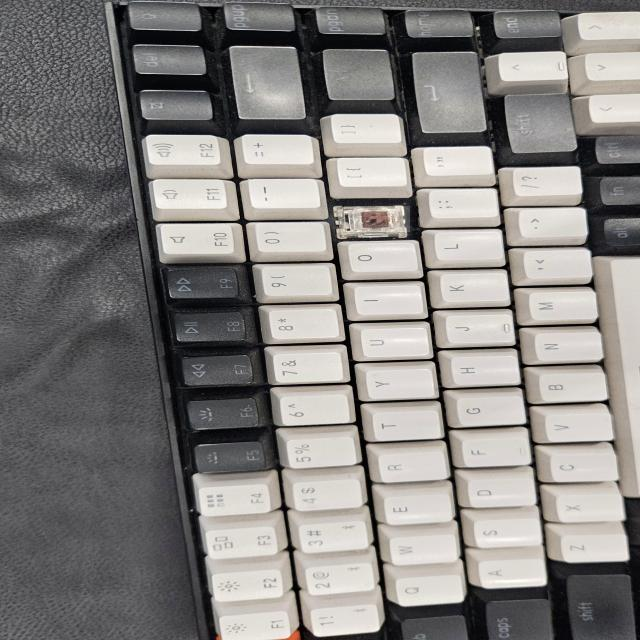C: (344, 206, 410, 232)
